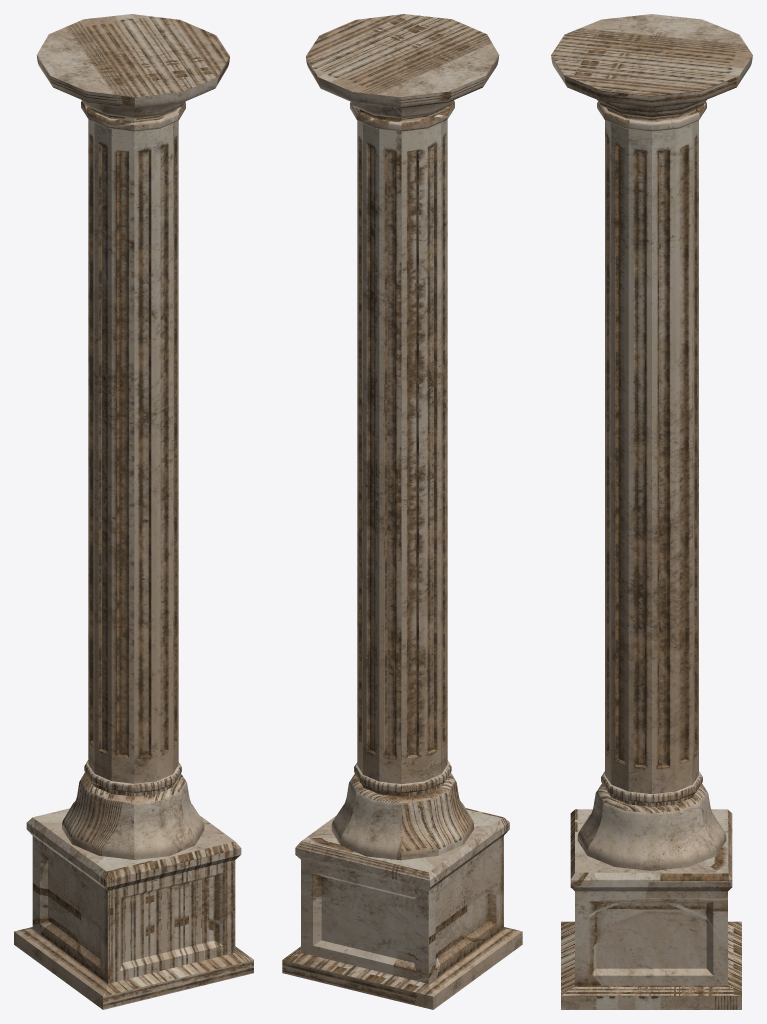
3 views of the same model, side by side, from view 1: azimuth 30°, elevation 25°; view 2: azimuth 150°, elevation 25°; view 3: azimuth 270°, elevation 25° (orthographic).
Parts seen in each view (by area): view 1: sütun.006_Baked; view 2: sütun.006_Baked; view 3: sütun.006_Baked.
Part boxes in pixels (x1=…): sütun.006_Baked: x1=14, y1=14, x2=253, y2=1009; sütun.006_Baked: x1=282, y1=14, x2=522, y2=1009; sütun.006_Baked: x1=551, y1=14, x2=752, y2=1009.
Bounding box in the file's own units: 40.37 × 210 × 41.88.
1 material, 1 textured.
